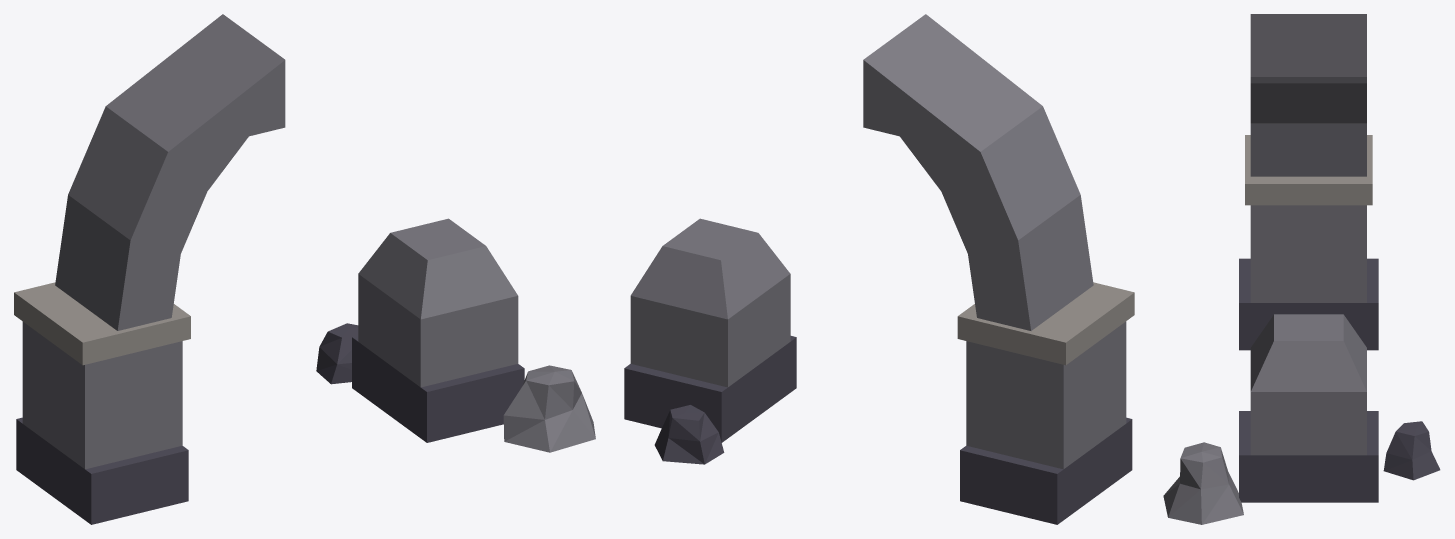
Rendered from arch_ruined.fbx.
The picture shows the model from 3 angles, left to right: view 1: azimuth 30°, elevation 25°; view 2: azimuth 150°, elevation 25°; view 3: azimuth 270°, elevation 25°; orthographic projection. The views are drawn at different scales.
Parts seen in each view (by area): view 1: arch_ruined; view 2: arch_ruined; view 3: arch_ruined.
Boxes of the visible parts, left/top/right/bottom form: arch_ruined: left=14, top=14, right=595, bottom=524; arch_ruined: left=624, top=14, right=1134, bottom=524; arch_ruined: left=1163, top=14, right=1440, bottom=524.
Size of the model in its own units: 4.5 by 3.63 by 2.38.
